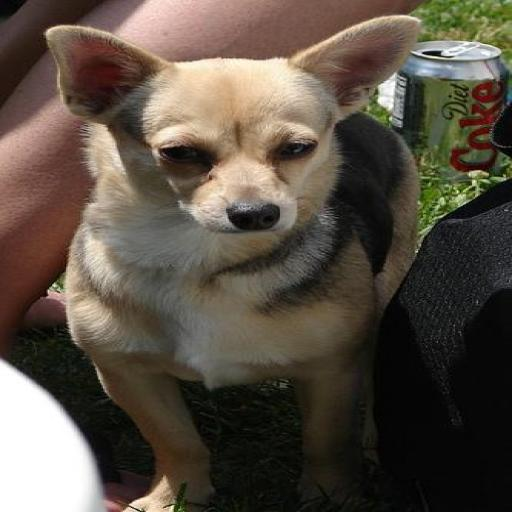dog_face: (55, 16, 405, 232)
